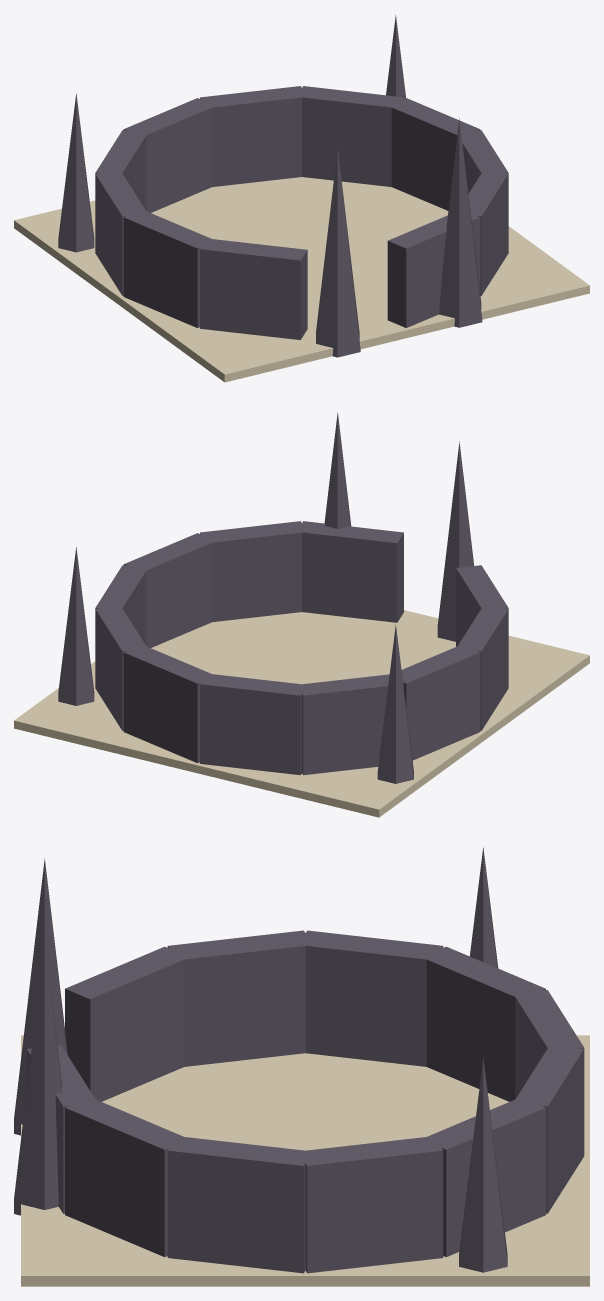
3 renders of one model, top to bottom at view 1: azimuth 30°, elevation 25°; view 2: azimuth 150°, elevation 25°; view 3: azimuth 270°, elevation 25°, orthographic. The views are drawn at different scales.
Parts seen in each view (by area): view 1: body; view 2: body; view 3: body.
Boxes of the visible parts, x1,y1,x2,y2 form: body: [14, 15, 589, 382]; body: [14, 412, 589, 817]; body: [14, 847, 589, 1286].
Size of the model in its own units: 9.6 by 5 by 9.72.
